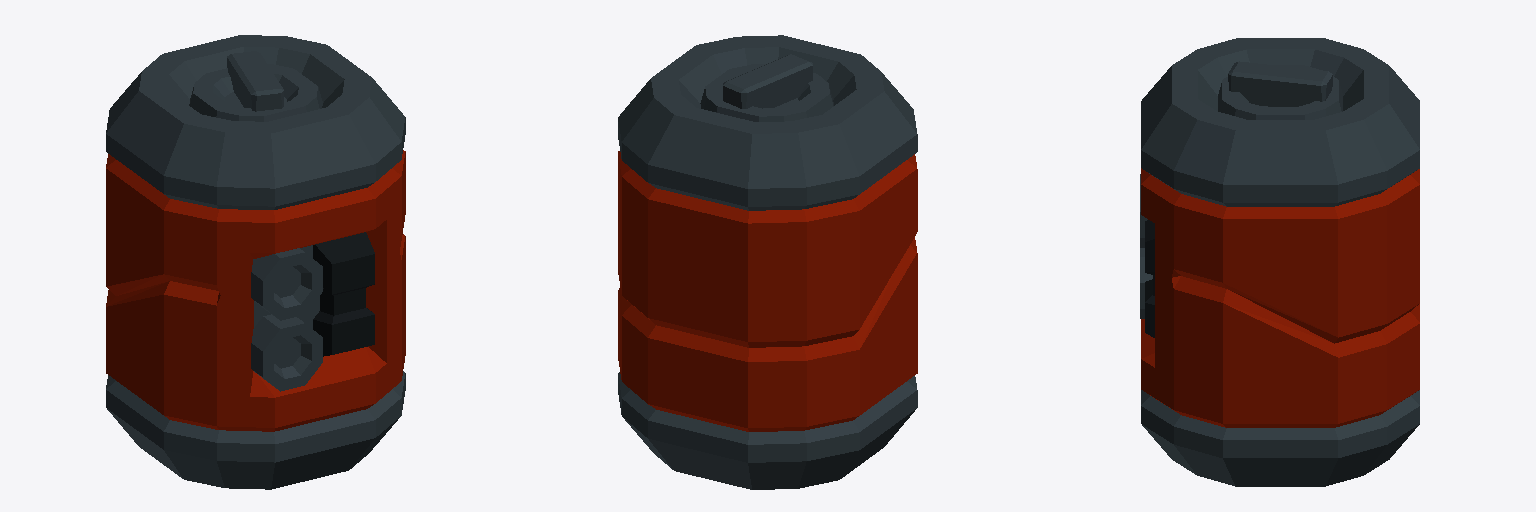
File: fuel_canisterA.obj
3 views of the same model, side by side, from view 1: azimuth 30°, elevation 25°; view 2: azimuth 150°, elevation 25°; view 3: azimuth 270°, elevation 25° (orthographic).
Parts seen in each view (by area): view 1: fuel_canisterA_Cylinder.105; view 2: fuel_canisterA_Cylinder.105; view 3: fuel_canisterA_Cylinder.105.
Part boxes in pixels (bbox=[...]): fuel_canisterA_Cylinder.105: bbox=[106, 35, 405, 489]; fuel_canisterA_Cylinder.105: bbox=[618, 35, 917, 489]; fuel_canisterA_Cylinder.105: bbox=[1140, 38, 1419, 486].
Size of the model in its own units: 0.7837 by 1.14 by 0.7872.